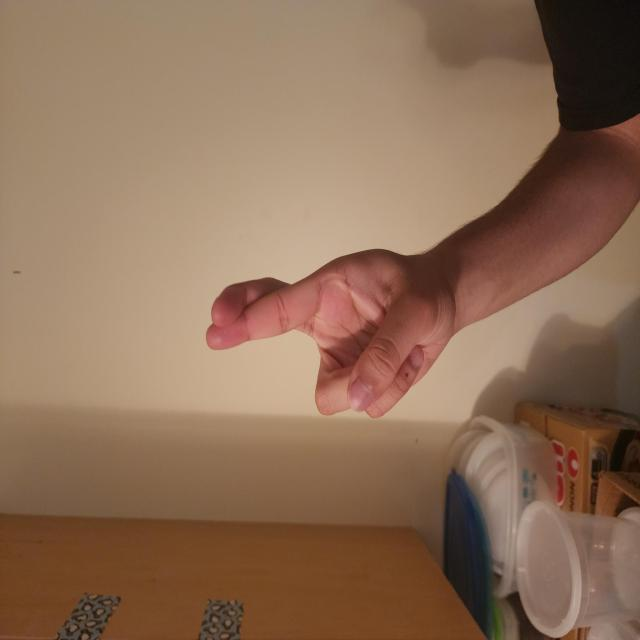R: (161, 270, 300, 618)
